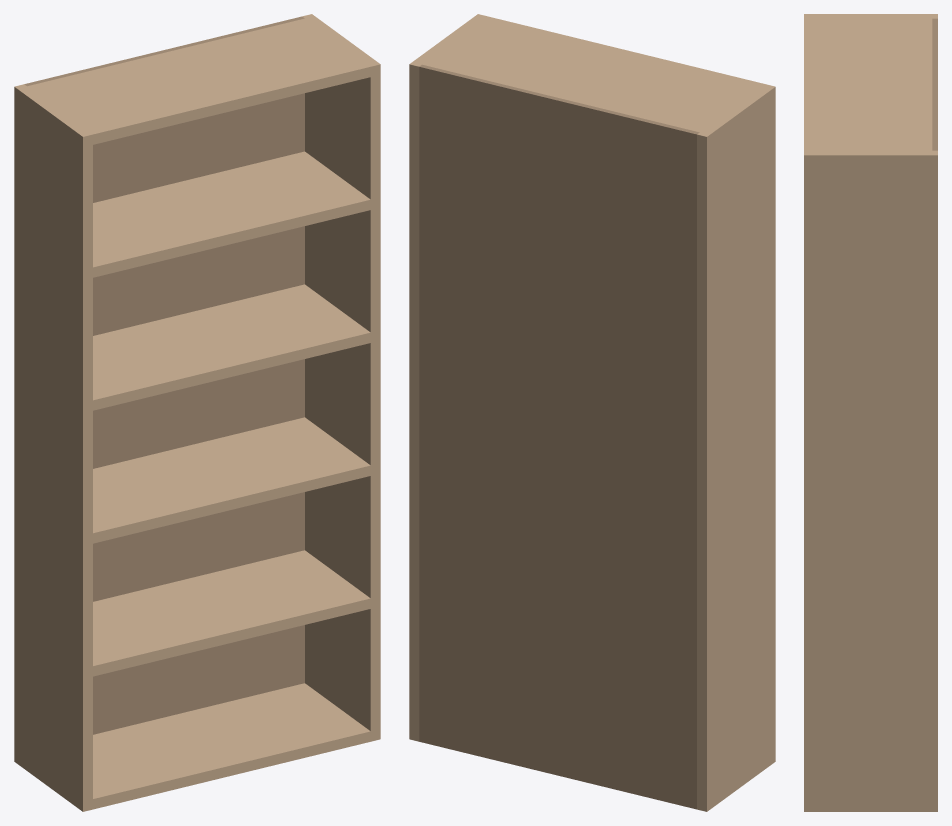
File: bookshelf.glb
3 renders of one model, left to right at view 1: azimuth 30°, elevation 25°; view 2: azimuth 150°, elevation 25°; view 3: azimuth 270°, elevation 25°, orthographic. The views are drawn at different scales.
Parts seen in each view (by area): view 1: shelf (×6), back, side_l, side_r; view 2: back, side_l, shelf, side_r; view 3: side_r, shelf, back, side_l.
Boxes of the visible parts, x1,y1,x2,y2 form: shelf (×6): (27,18,370,809); back: (24,16,304,734); side_l: (14,84,92,811); side_r: (302,14,380,741); back: (419,64,699,809); side_l: (697,84,775,811); shelf: (422,16,765,132); side_r: (409,14,487,741); side_r: (804,150,937,811); shelf: (804,18,932,150); back: (932,18,937,150); side_l: (804,14,937,18).
Size of the model in its own units: 0.762 by 1.65 by 0.3048.
